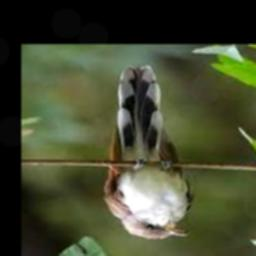Cuckoo: (104, 64, 195, 239)
